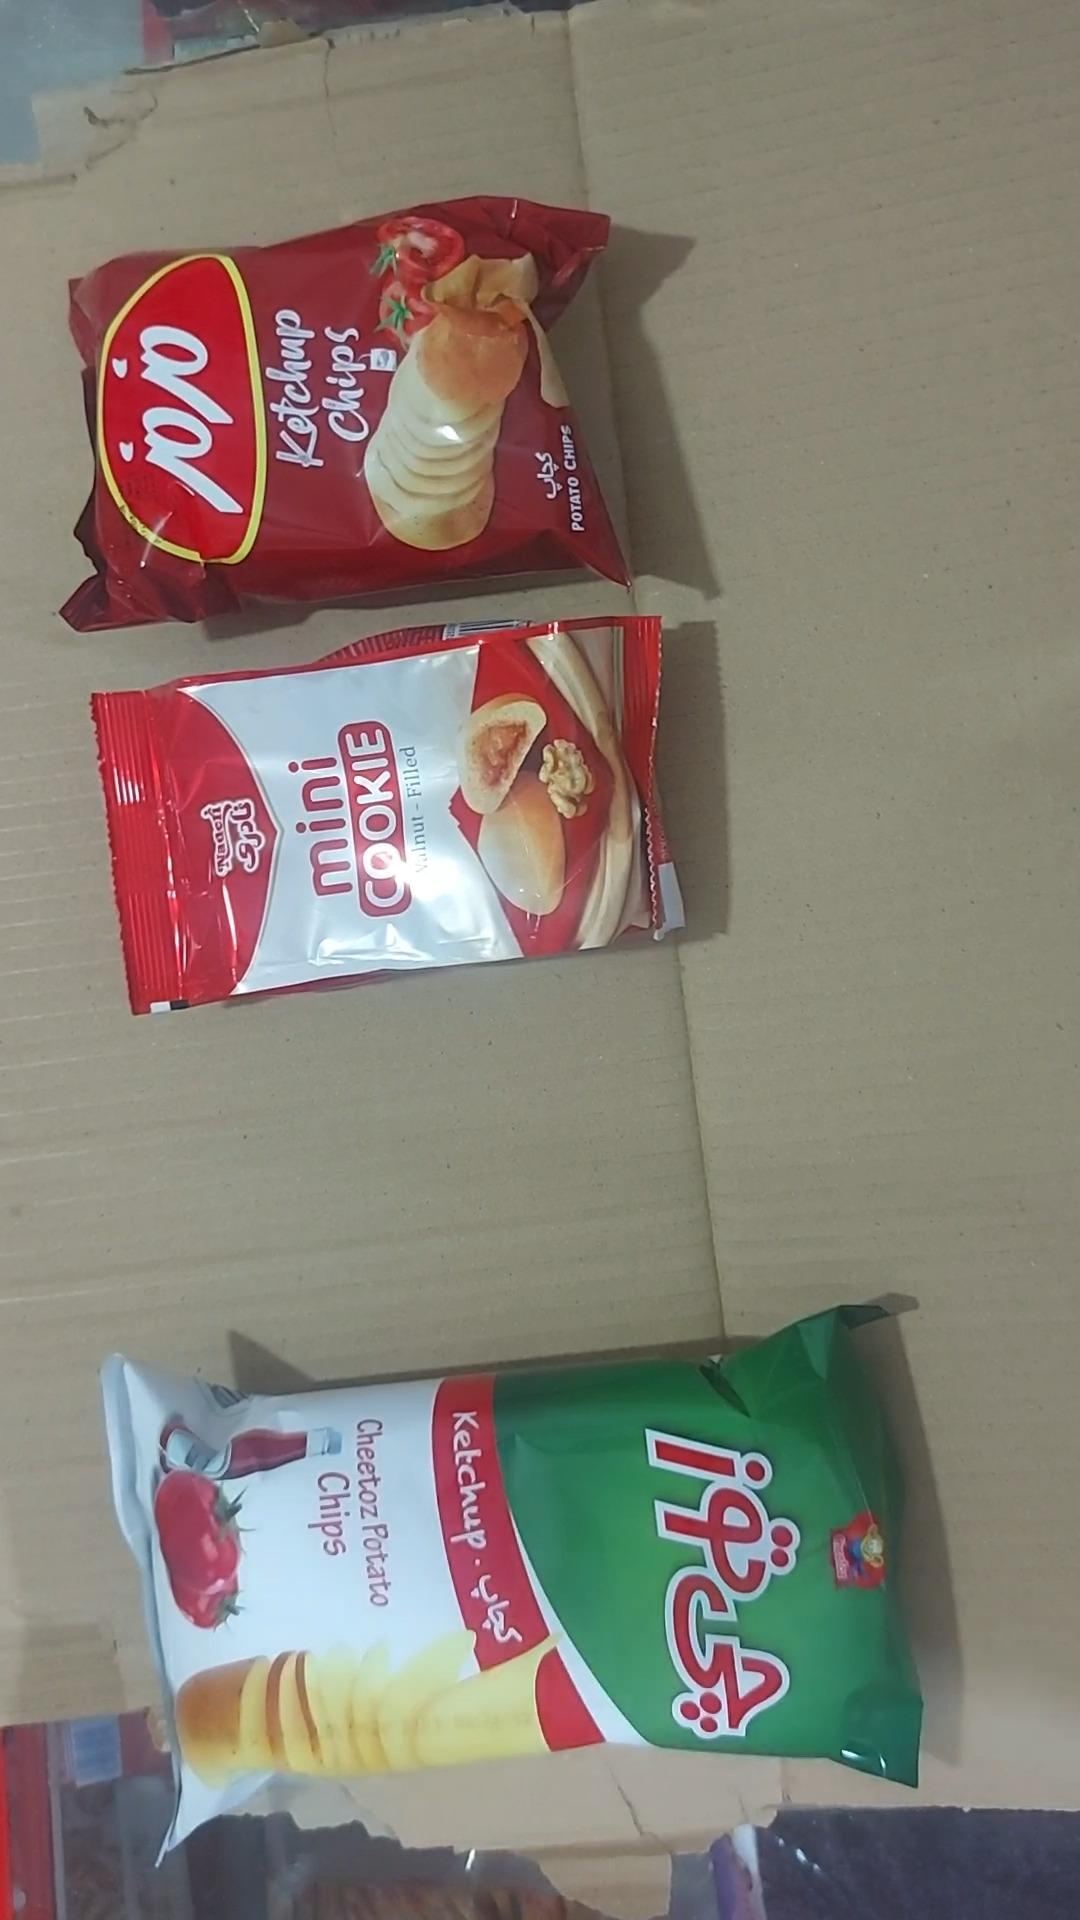Cheetoz ketchup chips: (102, 1304, 923, 1865)
Maz Maz ketchup chips: (59, 196, 625, 636)
Naderi mini cookie: (88, 616, 687, 1018)
